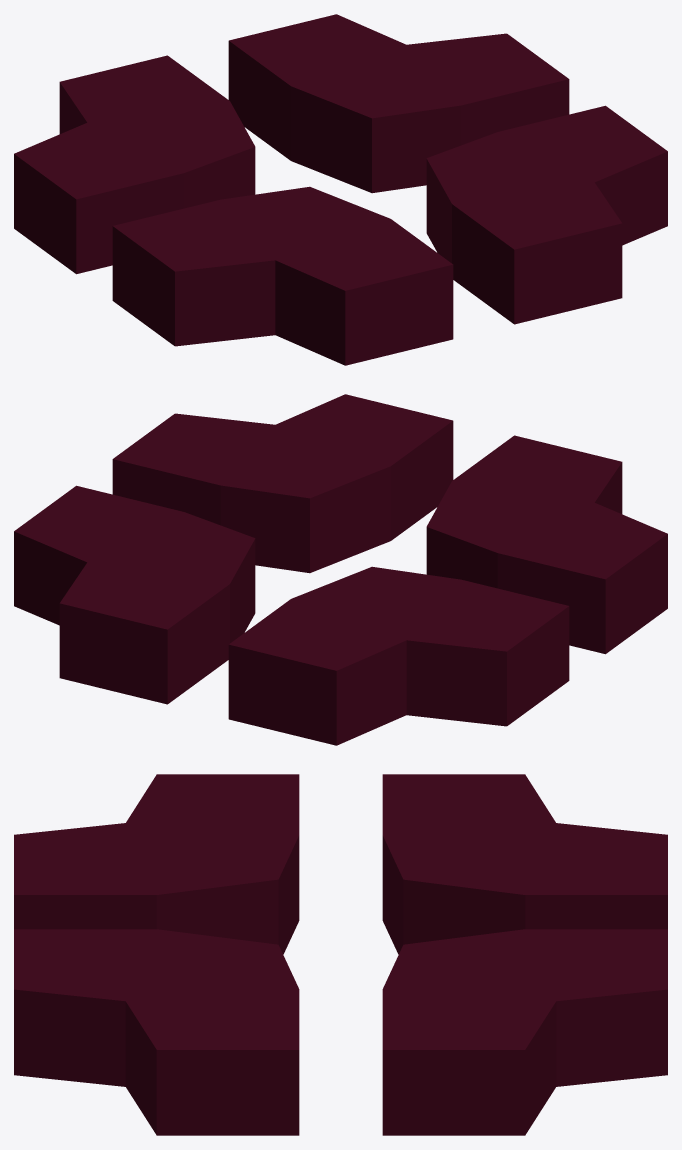
The model's file is sym_crosshair.fbx.
3 renders of one model, top to bottom at view 1: azimuth 30°, elevation 25°; view 2: azimuth 150°, elevation 25°; view 3: azimuth 270°, elevation 25°, orthographic. The views are drawn at different scales.
Parts seen in each view (by area): view 1: Cube.008; view 2: Cube.008; view 3: Cube.008.
Part boxes in pixels (x1=…): Cube.008: x1=14, y1=14, x2=667, y2=365; Cube.008: x1=14, y1=394, x2=667, y2=745; Cube.008: x1=14, y1=774, x2=667, y2=1135.
Bounding box in the file's own units: 457 × 66.24 × 458.
